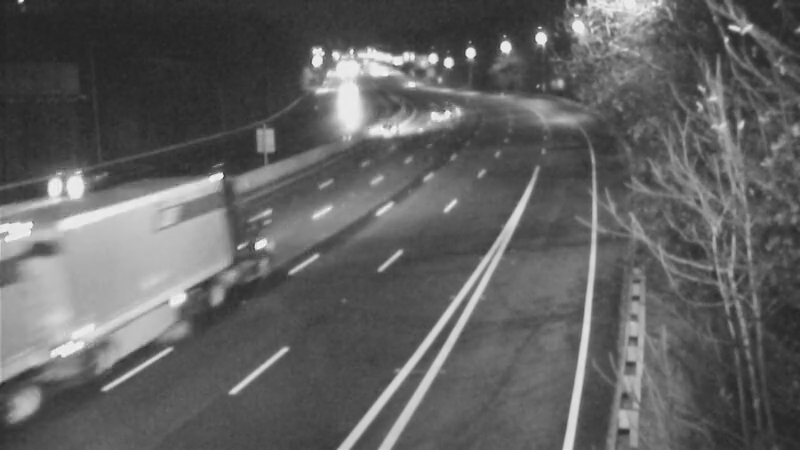vehicle: (98, 241, 178, 321), (21, 142, 101, 222), (382, 60, 432, 110), (410, 87, 460, 137), (351, 105, 401, 155), (320, 75, 370, 125)
